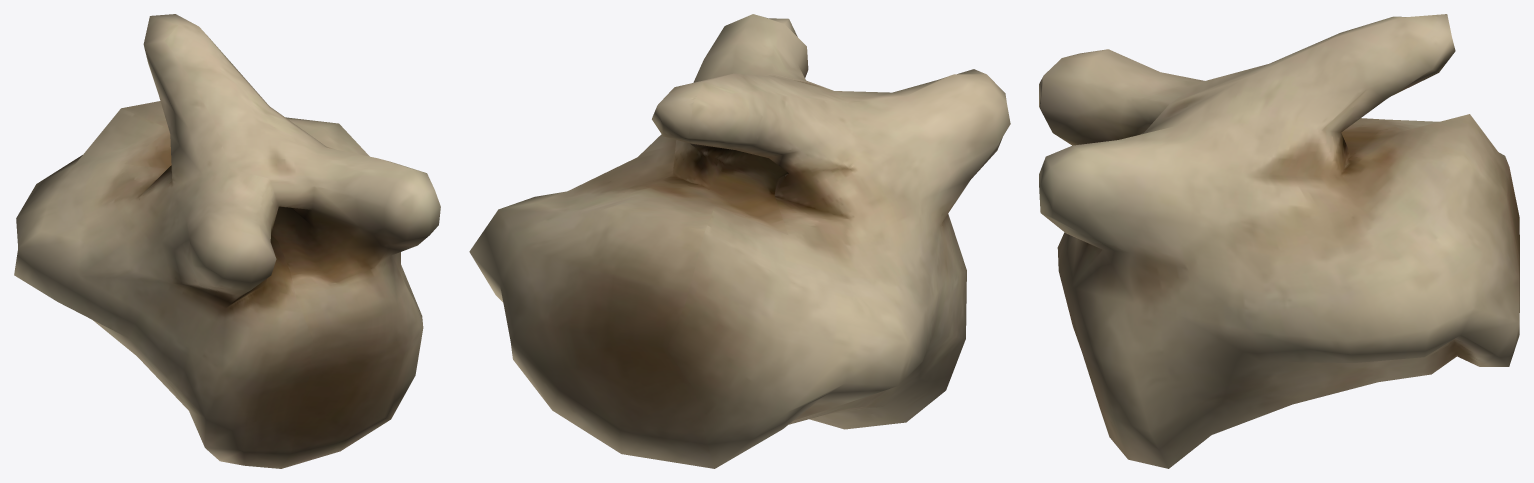
File: Caudal_Vertebrae4.glb
The picture shows the model from 3 angles, left to right: view 1: azimuth 30°, elevation 25°; view 2: azimuth 150°, elevation 25°; view 3: azimuth 270°, elevation 25°; orthographic projection. The views are drawn at different scales.
Parts seen in each view (by area): view 1: Caudal_Vertebrae_23:Group45465; view 2: Caudal_Vertebrae_23:Group45465; view 3: Caudal_Vertebrae_23:Group45465.
Part boxes in pixels (x1=…): Caudal_Vertebrae_23:Group45465: x1=14, y1=14, x2=440, y2=468; Caudal_Vertebrae_23:Group45465: x1=469, y1=14, x2=1010, y2=468; Caudal_Vertebrae_23:Group45465: x1=1039, y1=14, x2=1519, y2=468.
Size of the model in its own units: 13.67 by 13.16 by 13.75.
1 material, 1 textured.
